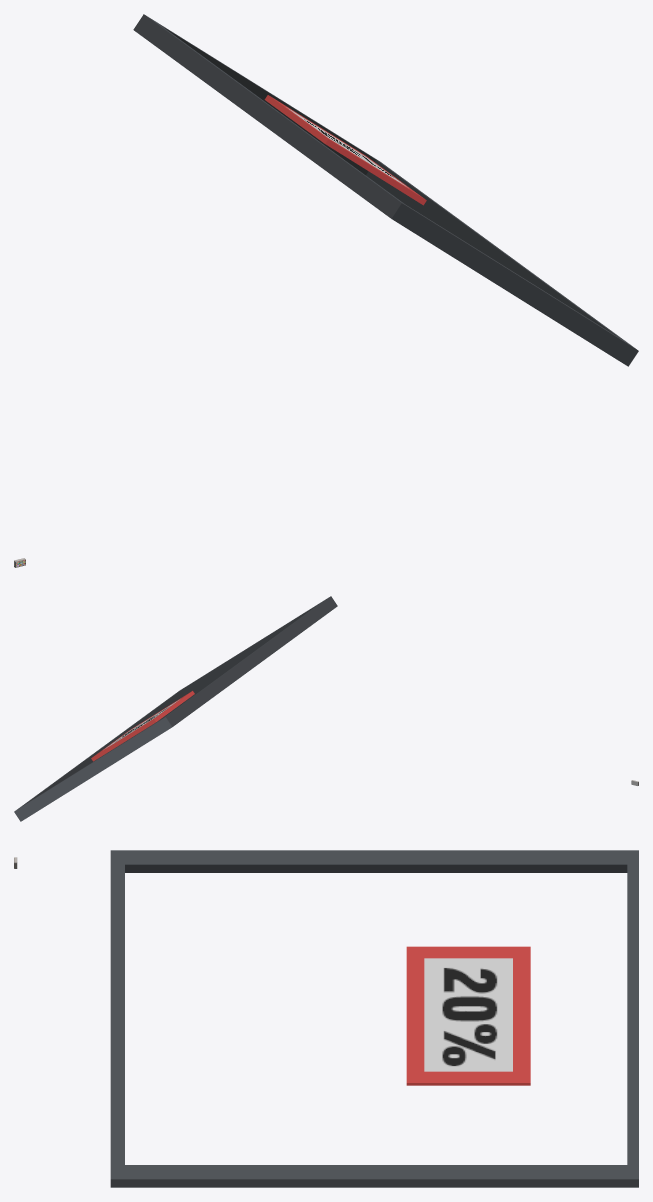
Rendered from ShelfFreezerPreset.glb.
3 views of the same model, one above another, from view 1: azimuth 30°, elevation 25°; view 2: azimuth 150°, elevation 25°; view 3: azimuth 270°, elevation 25° (orthographic). The views are drawn at different scales.
Visible parts, largest first — view 1: SI_Prop_Shelf_Freezer_Door; view 2: SI_Prop_Shelf_Freezer_Door; view 3: SI_Prop_Shelf_Freezer_Door.
Part boxes in pixels (x1=…): SI_Prop_Shelf_Freezer_Door: x1=133, y1=14, x2=638, y2=366; SI_Prop_Shelf_Freezer_Door: x1=14, y1=596, x2=337, y2=821; SI_Prop_Shelf_Freezer_Door: x1=110, y1=850, x2=638, y2=1187.
Bounding box in the file's own units: 5.07 × 1.62 × 4.
1 material, 1 textured.
